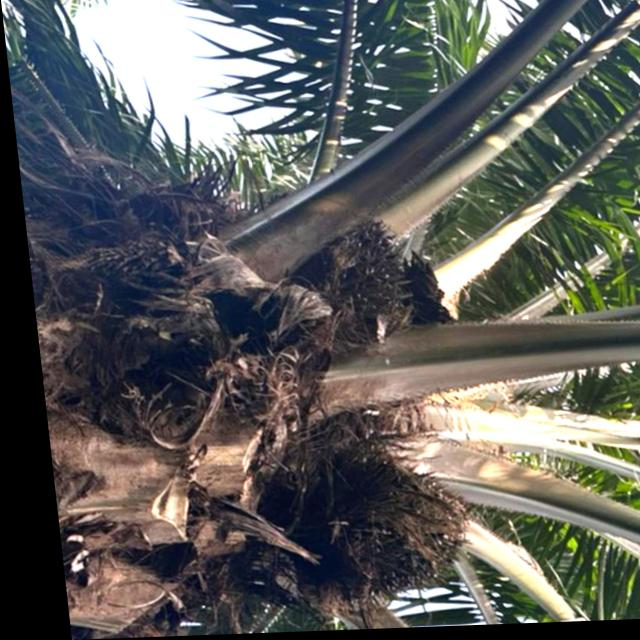ripe: (291, 193, 429, 362)
